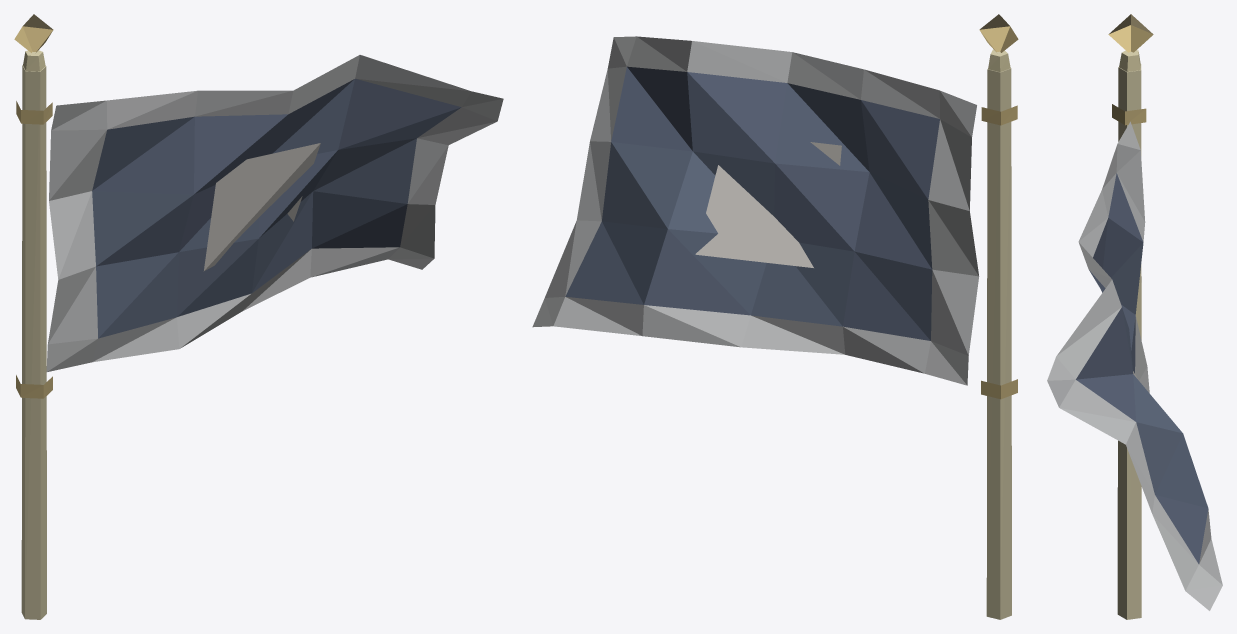
The model's file is flag.notched.dianqi__pole.stick.mugun__masthead.glb.
3 views of the same model, side by side, from view 1: azimuth 30°, elevation 25°; view 2: azimuth 150°, elevation 25°; view 3: azimuth 270°, elevation 25° (orthographic).
Visible parts, largest first — view 1: flag.notched.dianqi; view 2: flag.notched.dianqi; view 3: flag.notched.dianqi.
Boxes of the visible parts, box(x1,y1,x2,y2) form: flag.notched.dianqi: box(14, 14, 503, 619); flag.notched.dianqi: box(532, 14, 1018, 619); flag.notched.dianqi: box(1047, 14, 1222, 619).
Bounding box in the file's own units: 1.62 × 2.08 × 0.5532.
